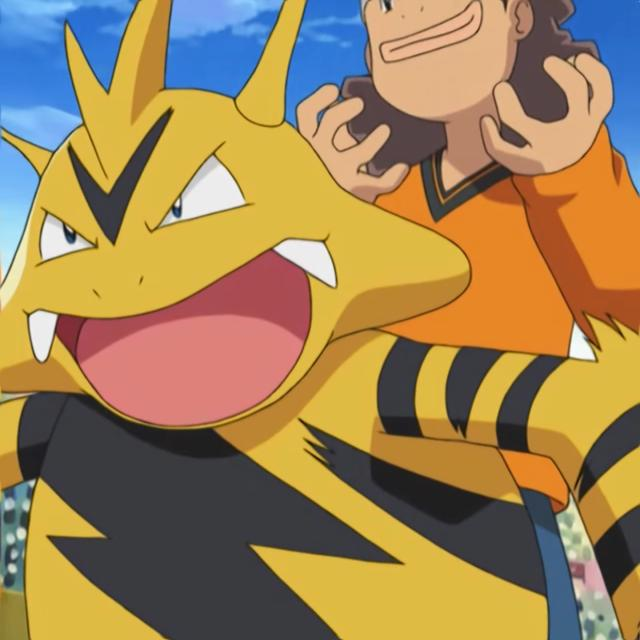Electabuzz: (0, 90, 481, 640)
